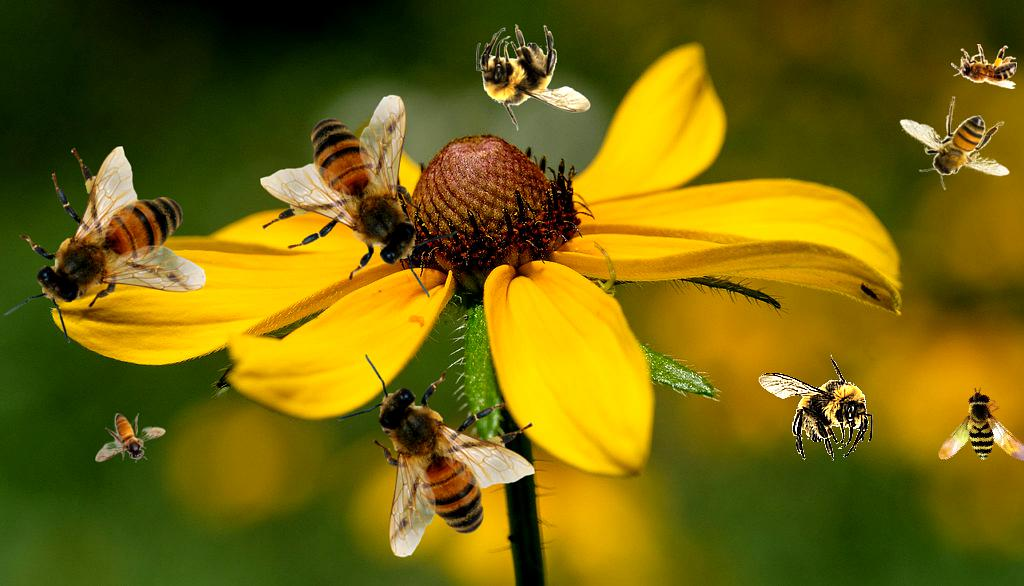Bee: (3, 146, 207, 345), (260, 94, 459, 298), (336, 354, 535, 558), (476, 24, 591, 131), (758, 354, 873, 461), (929, 384, 1024, 502), (899, 96, 1010, 190), (95, 413, 166, 463), (951, 44, 1017, 89)
